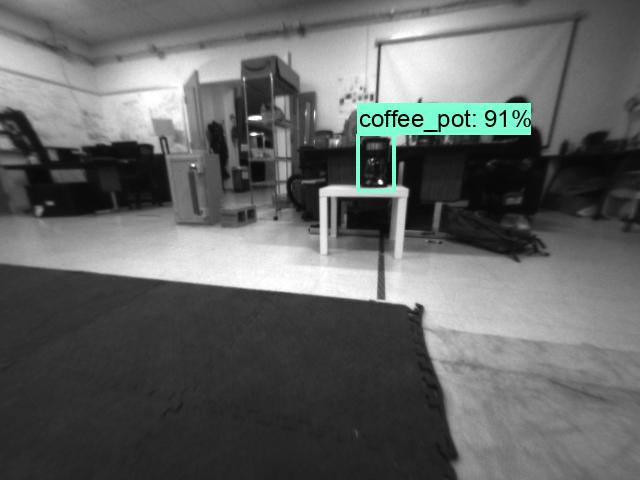coffee_pot: (356, 136, 393, 188)
